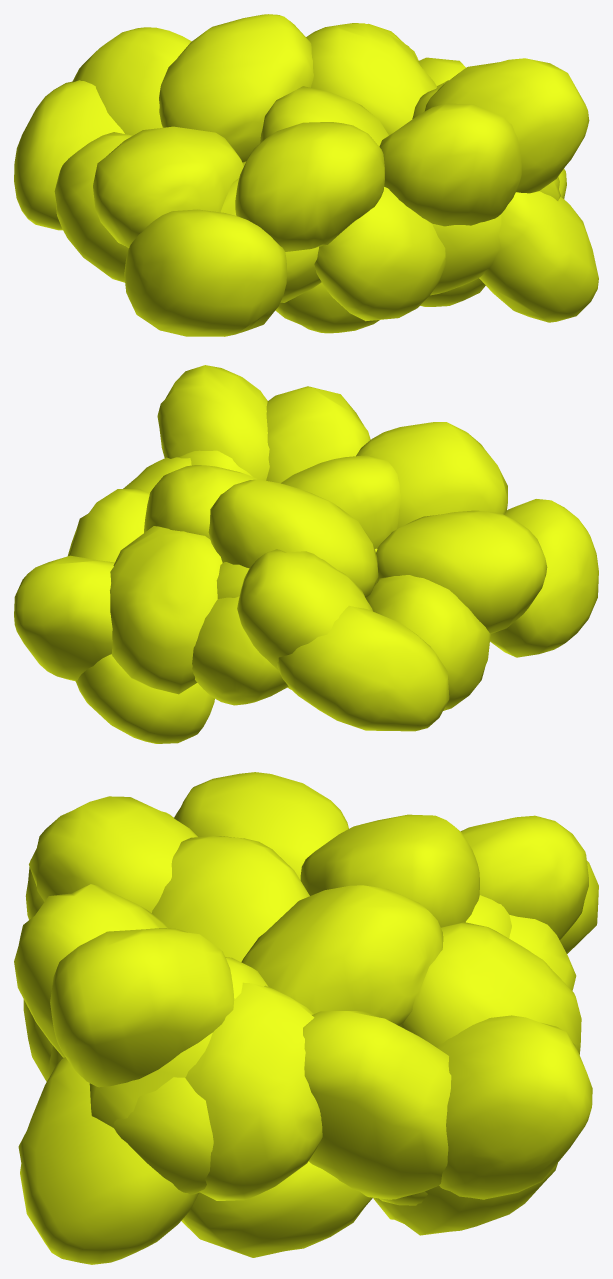
File: Patatas_Grande.FBX
3 views of the same model, one above another, from view 1: azimuth 30°, elevation 25°; view 2: azimuth 150°, elevation 25°; view 3: azimuth 270°, elevation 25° (orthographic). The views are drawn at different scales.
Parts seen in each view (by area): view 1: Patata_low251, Patata_low232, Patata_low227, Patata_low237, Patata_low236, Patata_low246, Patata_low226, Patata_low225, Patata_low231, Patata_low229, Patata_low234, Patata_low228 (+7 smaller); view 2: Patata_low229, Patata_low239, Patata_low236, Patata_low227, Patata_low241, Patata_low232, Patata_low234, Patata_low251, Patata_low225, Patata_low228, Patata_low237, Patata_low244 (+7 smaller); view 3: Patata_low243, Patata_low225, Patata_low241, Patata_low226, Patata_low247, Patata_low231, Patata_low239, Patata_low227, Patata_low232, Patata_low238, Patata_low234, Patata_low240 (+9 smaller).
Part boxes in pixels (x1,y1,x2,y2): Patata_low251: (124, 209, 286, 336); Patata_low232: (235, 122, 384, 251); Patata_low227: (159, 14, 313, 162); Patata_low237: (379, 103, 521, 226); Patata_low236: (93, 126, 244, 247); Patata_low246: (314, 187, 445, 321); Patata_low226: (479, 191, 598, 322); Patata_low225: (424, 58, 589, 193); Patata_low231: (306, 23, 436, 135); Patata_low229: (14, 80, 124, 230); Patata_low234: (72, 27, 191, 135); Patata_low228: (54, 132, 132, 282); Patata_low229: (277, 605, 449, 731); Patata_low239: (110, 526, 222, 694); Patata_low236: (375, 510, 547, 633); Patata_low227: (208, 479, 378, 598); Patata_low241: (14, 555, 114, 681); Patata_low232: (356, 422, 507, 528); Patata_low234: (237, 549, 372, 670); Patata_low251: (490, 499, 598, 657); Patata_low225: (157, 365, 269, 480); Patata_low228: (366, 575, 490, 710); Patata_low237: (266, 386, 370, 483); Patata_low244: (75, 654, 214, 743); Patata_low243: (303, 1011, 451, 1199); Patata_low225: (50, 928, 234, 1087); Patata_low241: (437, 1015, 592, 1199); Patata_low226: (18, 1057, 198, 1264); Patata_low247: (185, 982, 322, 1200); Patata_low231: (241, 885, 443, 1026); Patata_low239: (400, 922, 581, 1054); Patata_low227: (300, 814, 479, 927); Patata_low232: (29, 796, 197, 912); Patata_low238: (151, 836, 309, 961); Patata_low234: (461, 815, 588, 940); Patata_low240: (181, 1161, 372, 1257).
Size of the model in its own units: 107 by 60.48 by 94.8.
